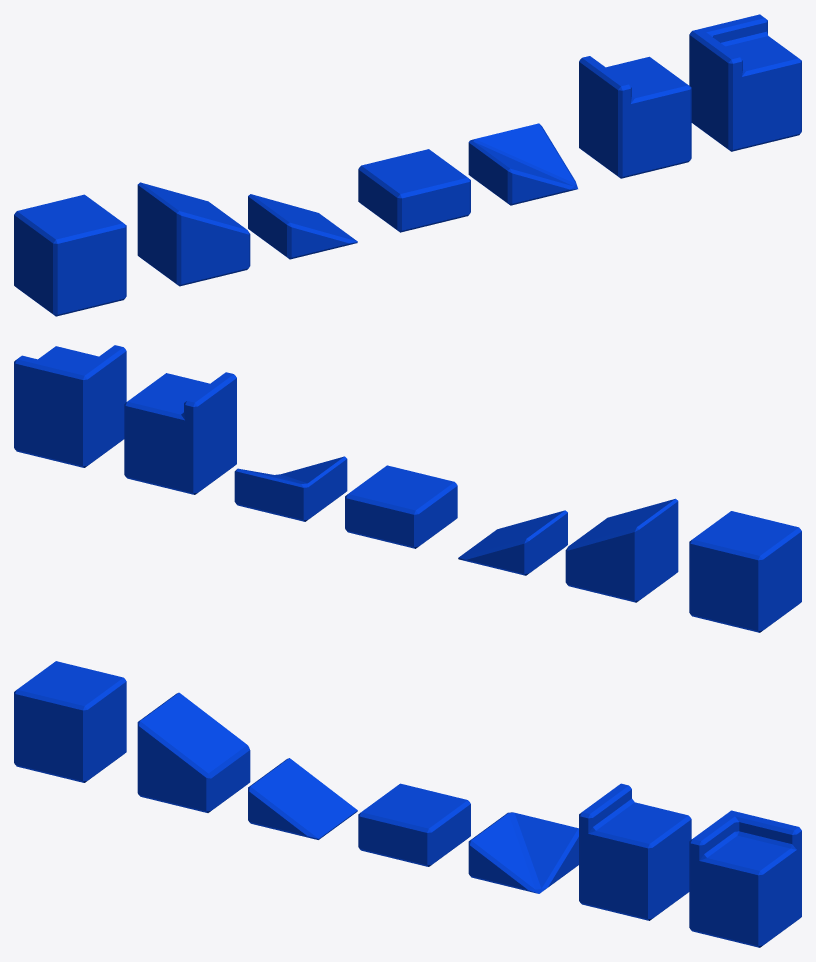
The model's file is world-blocks-v1.glb.
3 renders of one model, top to bottom at view 1: azimuth 30°, elevation 25°; view 2: azimuth 150°, elevation 25°; view 3: azimuth 330°, elevation 25°, orthographic.
Visible parts, largest first — view 1: BlockWallCorner, BlockWithWall, Block, RampTop, BlockShort, RampShortCorner, RampBottom; view 2: BlockWallCorner, BlockWithWall, Block, RampTop, BlockShort, RampShortCorner, RampBottom; view 3: BlockWallCorner, BlockWithWall, Block, RampTop, BlockShort, RampShortCorner, RampBottom.
Part boxes in pixels (box(x1,y1,x2,y2)): BlockWallCorner: box(689, 14, 801, 151); BlockWithWall: box(579, 56, 691, 178); Block: box(14, 194, 126, 316); RampTop: box(137, 182, 250, 286); BlockShort: box(358, 149, 470, 232); RampShortCorner: box(468, 123, 577, 205); RampBottom: box(248, 194, 357, 259); BlockWallCorner: box(14, 345, 126, 467); BlockWithWall: box(124, 372, 236, 494); Block: box(689, 511, 801, 632); RampTop: box(565, 498, 678, 602); BlockShort: box(345, 465, 457, 548); RampShortCorner: box(234, 456, 347, 521); RampBottom: box(458, 510, 567, 575); BlockWallCorner: box(689, 810, 801, 947); BlockWithWall: box(579, 783, 691, 920); Block: box(14, 661, 126, 782); RampTop: box(137, 692, 250, 812); BlockShort: box(358, 783, 470, 866); RampShortCorner: box(468, 812, 578, 893); RampBottom: box(248, 758, 357, 839).
Size of what is drawn, in the model's own units: 20.36 by 2.4 by 2.
